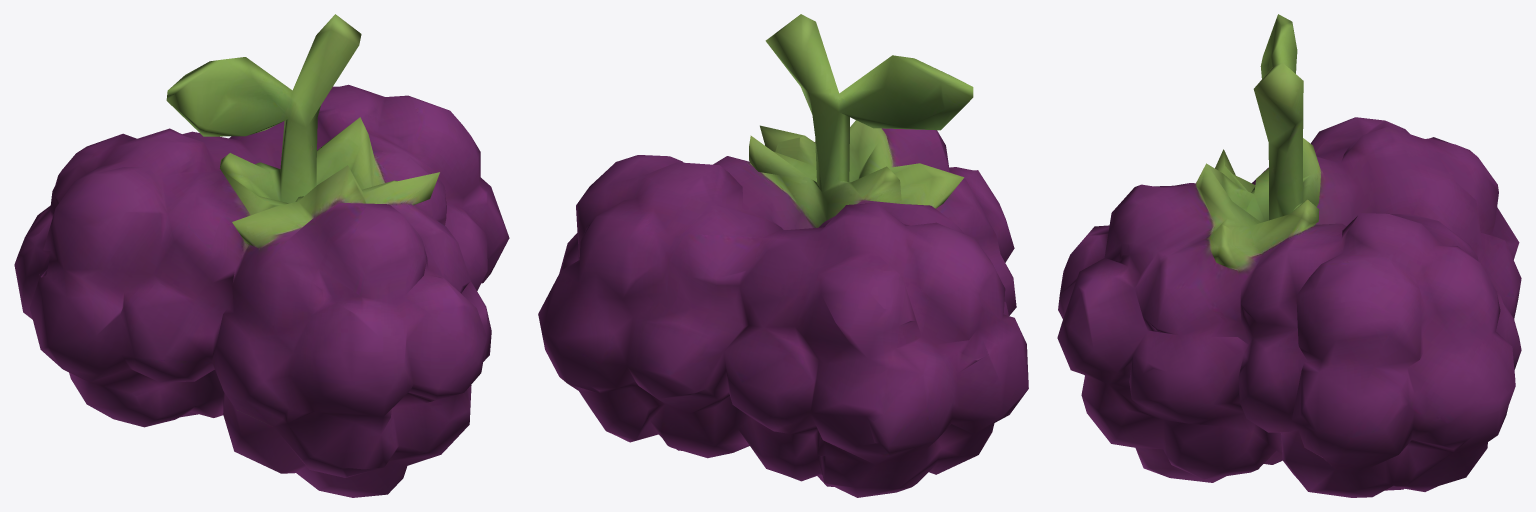
The model's file is mures.glb.
The picture shows the model from 3 angles, left to right: view 1: azimuth 30°, elevation 25°; view 2: azimuth 150°, elevation 25°; view 3: azimuth 270°, elevation 25°; orthographic projection. The views are drawn at different scales.
Parts seen in each view (by area): view 1: tripo_node_47c5ddd8-beb7-4d4c-97ce-63ab93c39e1e; view 2: tripo_node_47c5ddd8-beb7-4d4c-97ce-63ab93c39e1e; view 3: tripo_node_47c5ddd8-beb7-4d4c-97ce-63ab93c39e1e.
Part boxes in pixels (x1,y1,x2,y2): tripo_node_47c5ddd8-beb7-4d4c-97ce-63ab93c39e1e: [14, 14, 509, 497]; tripo_node_47c5ddd8-beb7-4d4c-97ce-63ab93c39e1e: [538, 14, 1028, 497]; tripo_node_47c5ddd8-beb7-4d4c-97ce-63ab93c39e1e: [1057, 14, 1521, 497].
Bounding box in the file's own units: 1 × 0.9203 × 0.9024.
1 material, 1 textured.
